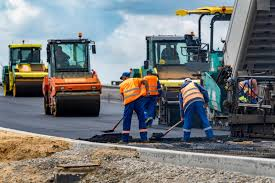vest: (123, 78, 143, 101), (147, 76, 159, 95)
